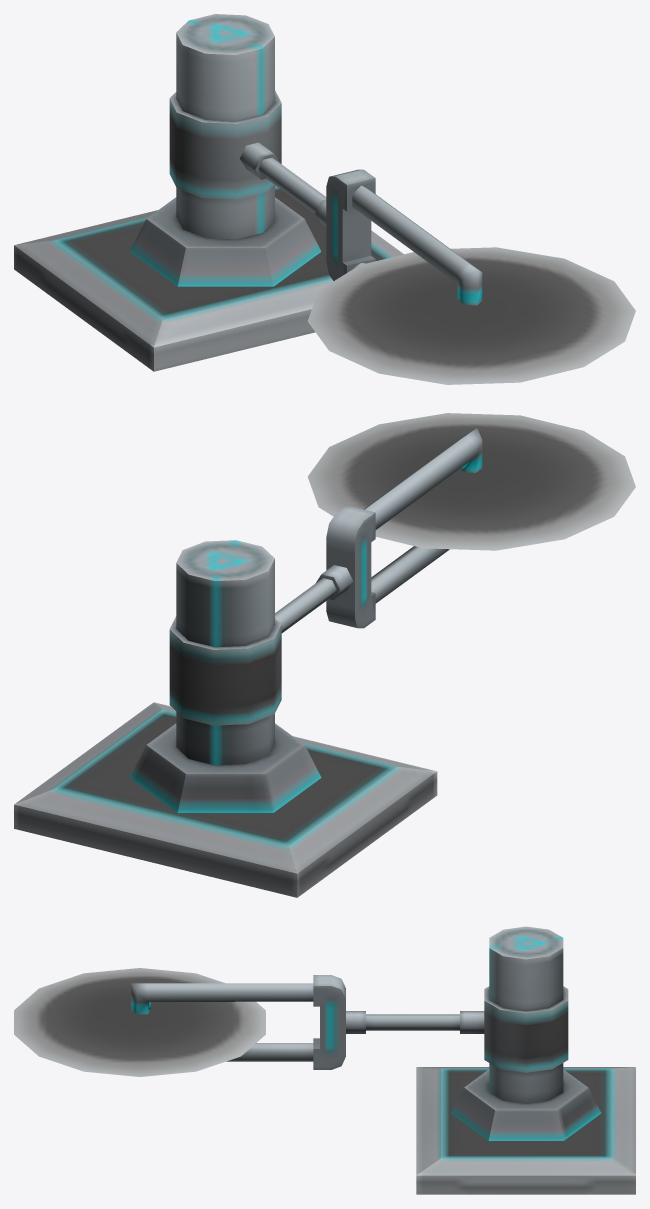
The model's file is Obstacle_05.fbx.
3 renders of one model, top to bottom at view 1: azimuth 30°, elevation 25°; view 2: azimuth 150°, elevation 25°; view 3: azimuth 270°, elevation 25°, orthographic. The views are drawn at different scales.
Parts seen in each view (by area): view 1: Obstacle_05; view 2: Obstacle_05; view 3: Obstacle_05.
Part boxes in pixels (x1,y1,x2,y2): Obstacle_05: (14, 14, 635, 384); Obstacle_05: (14, 413, 635, 897); Obstacle_05: (14, 926, 635, 1194).
Size of the model in its own units: 2.82 by 2.42 by 6.78.
1 material, 1 textured.
